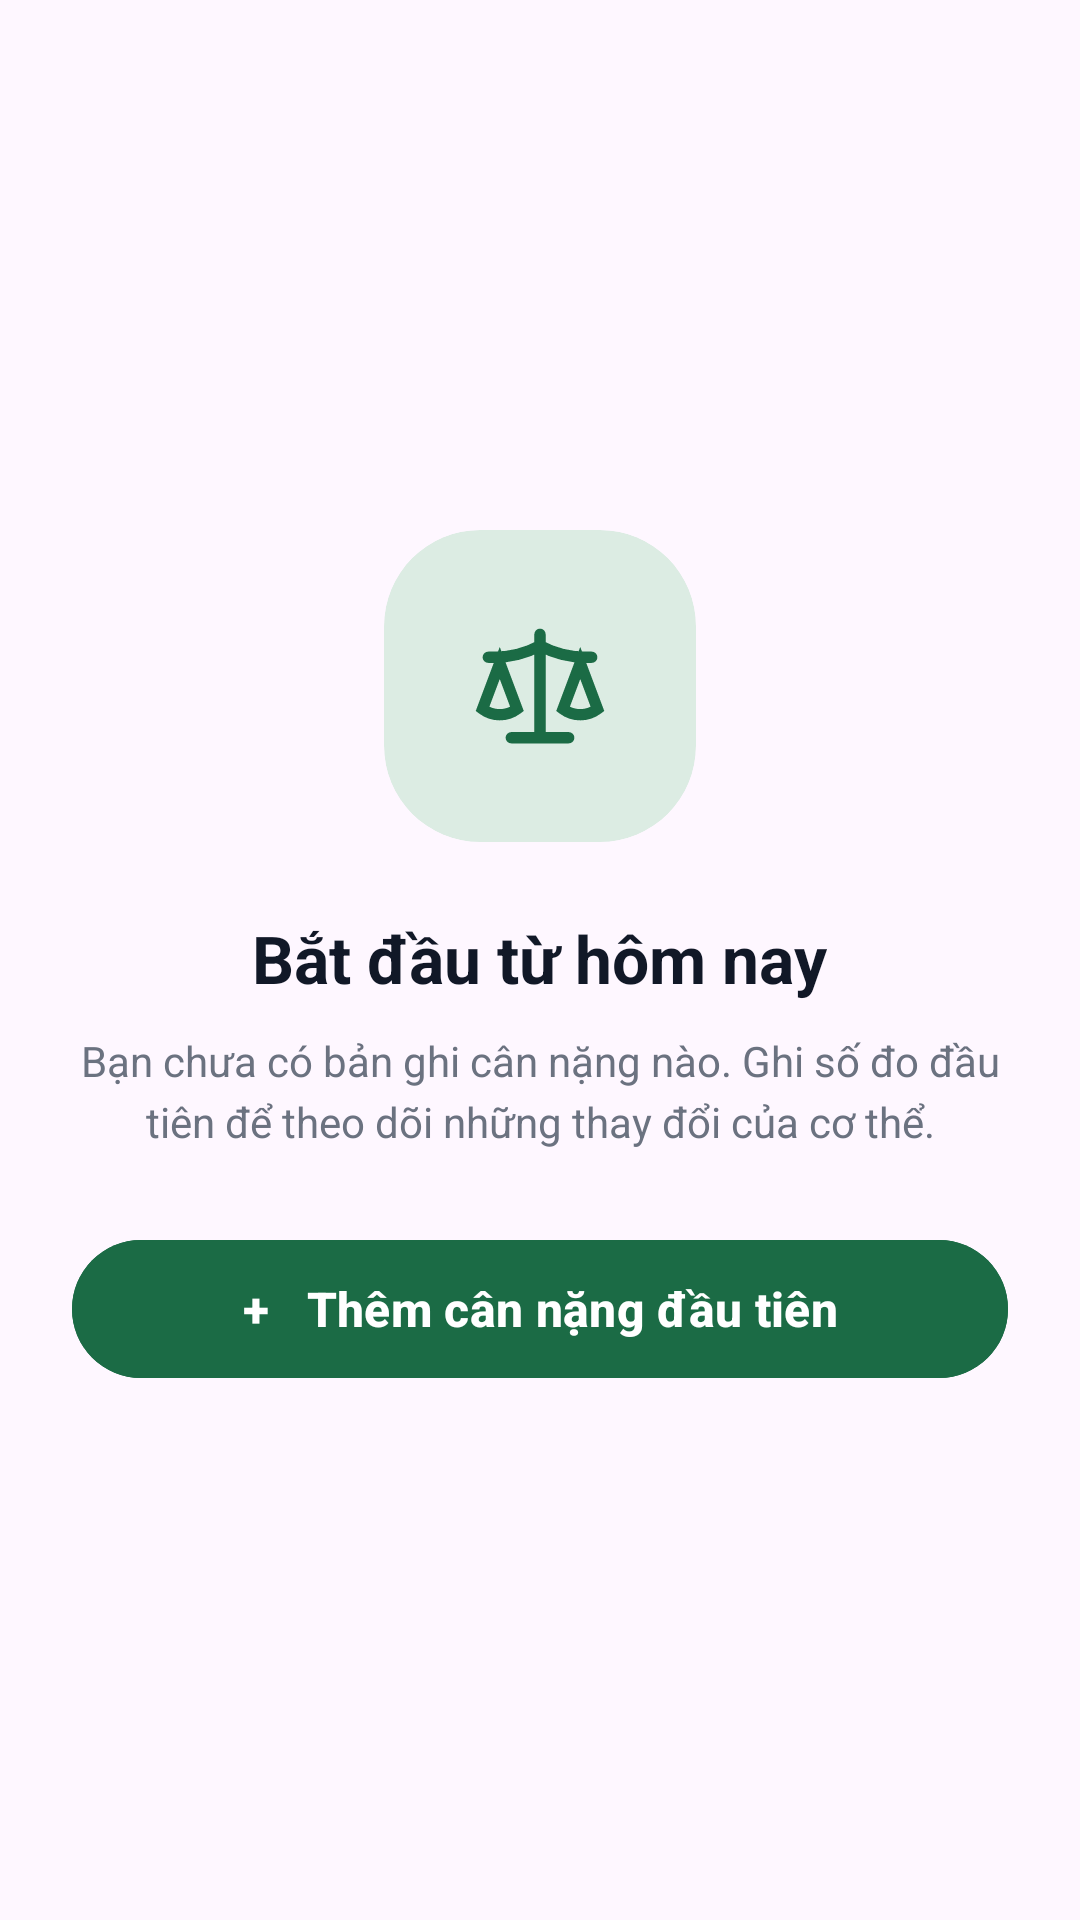

Screen size 1080 x 1920. Icon name, then its box in pixels as bbox(x1, y1, x2, y2):
scale: bbox(476, 628, 604, 744)
